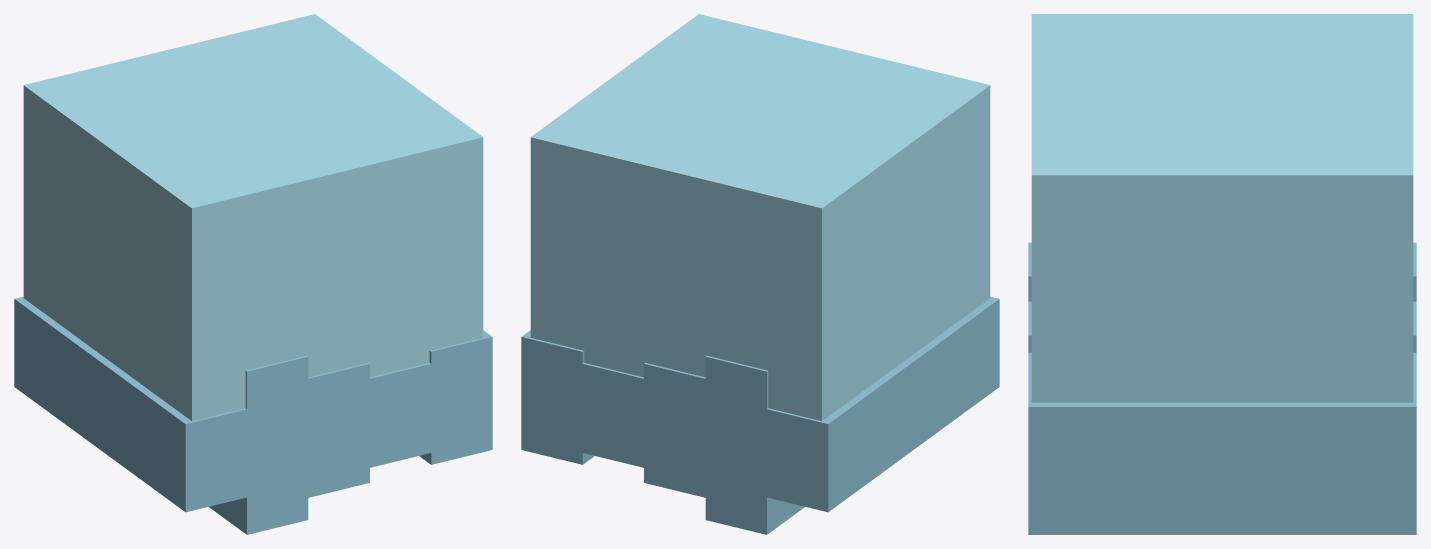
File: fantasma_manga_inf.glb
The picture shows the model from 3 angles, left to right: view 1: azimuth 30°, elevation 25°; view 2: azimuth 150°, elevation 25°; view 3: azimuth 270°, elevation 25°; orthographic projection. The views are drawn at different scales.
Visible parts, largest first — view 1: fantasma_manga_inf; view 2: fantasma_manga_inf; view 3: fantasma_manga_inf.
Boxes of the visible parts, x1,y1,x2,y2 form: fantasma_manga_inf: (14,14,492,534); fantasma_manga_inf: (521,14,999,534); fantasma_manga_inf: (1028,14,1416,534).
Bounding box in the file's own units: 0.3 × 0.3162 × 0.29.
